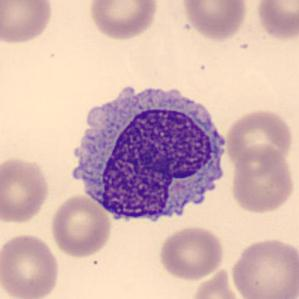Monocyte: (61, 76, 236, 232)
RBC: (228, 143, 296, 215), (228, 235, 298, 299), (223, 107, 295, 169), (48, 193, 113, 259), (0, 231, 62, 299), (156, 224, 226, 282), (0, 155, 51, 225), (87, 0, 160, 41), (179, 0, 249, 42), (0, 0, 55, 46), (189, 266, 244, 299), (254, 0, 298, 41)
